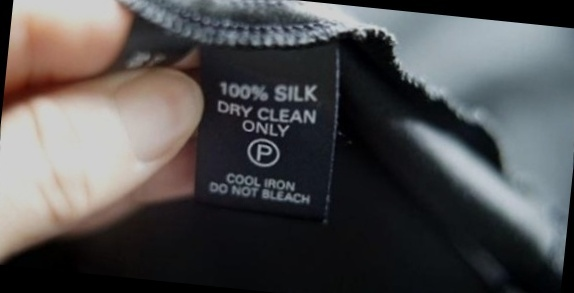dry_clean_any_solvent_except_trichloroethylene: (245, 134, 284, 169)
